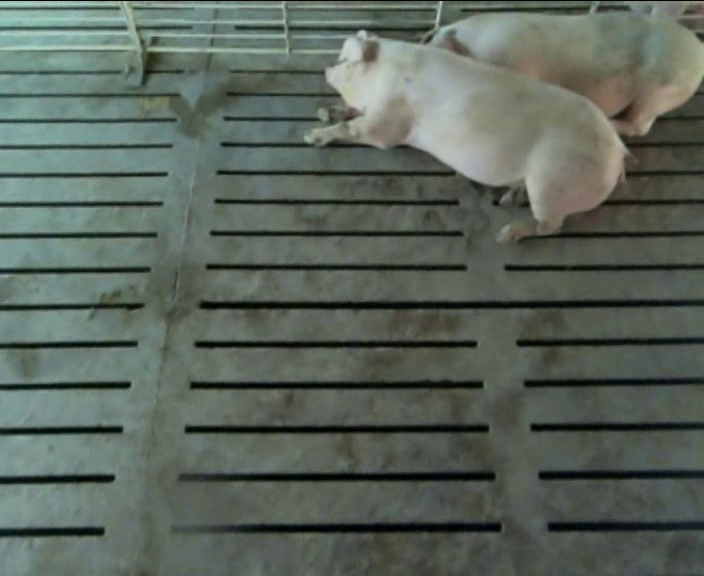pig: (305, 32, 630, 241), (421, 14, 703, 135)
